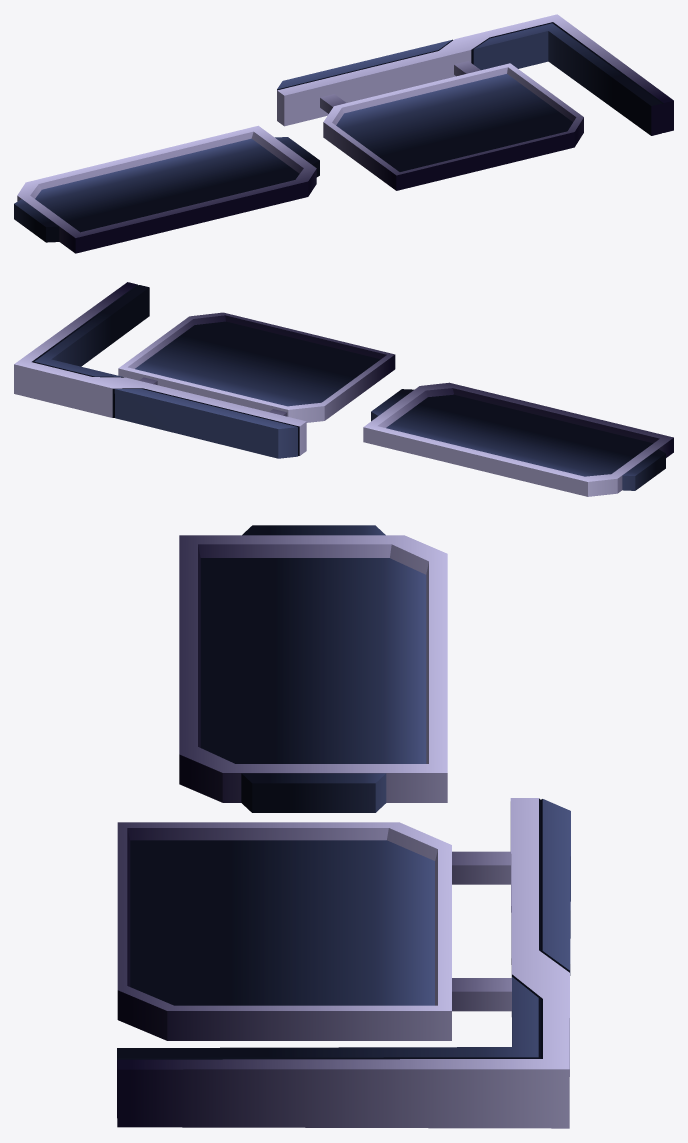
The model's file is Signages.fbx.
The picture shows the model from 3 angles, top to bottom: view 1: azimuth 30°, elevation 25°; view 2: azimuth 150°, elevation 25°; view 3: azimuth 270°, elevation 25°; orthographic projection. The views are drawn at different scales.
Visible parts, largest first — view 1: Plane, Plane.001, Cube.001; view 2: Plane, Plane.001, Cube.001; view 3: Plane, Plane.001, Cube.001.
Boxes of the visible parts, bbox=[...] form: Plane: bbox=[14, 125, 319, 253]; Plane.001: bbox=[323, 63, 583, 190]; Cube.001: bbox=[277, 14, 673, 135]; Plane: bbox=[363, 382, 673, 496]; Plane.001: bbox=[118, 312, 395, 422]; Cube.001: bbox=[14, 282, 306, 458]; Plane: bbox=[179, 525, 447, 812]; Plane.001: bbox=[117, 822, 451, 1040]; Cube.001: bbox=[117, 798, 570, 1128].
Bounding box in the file's own units: 250 × 12.33 × 85.8.
Materials: 1 (1 with a texture image).
